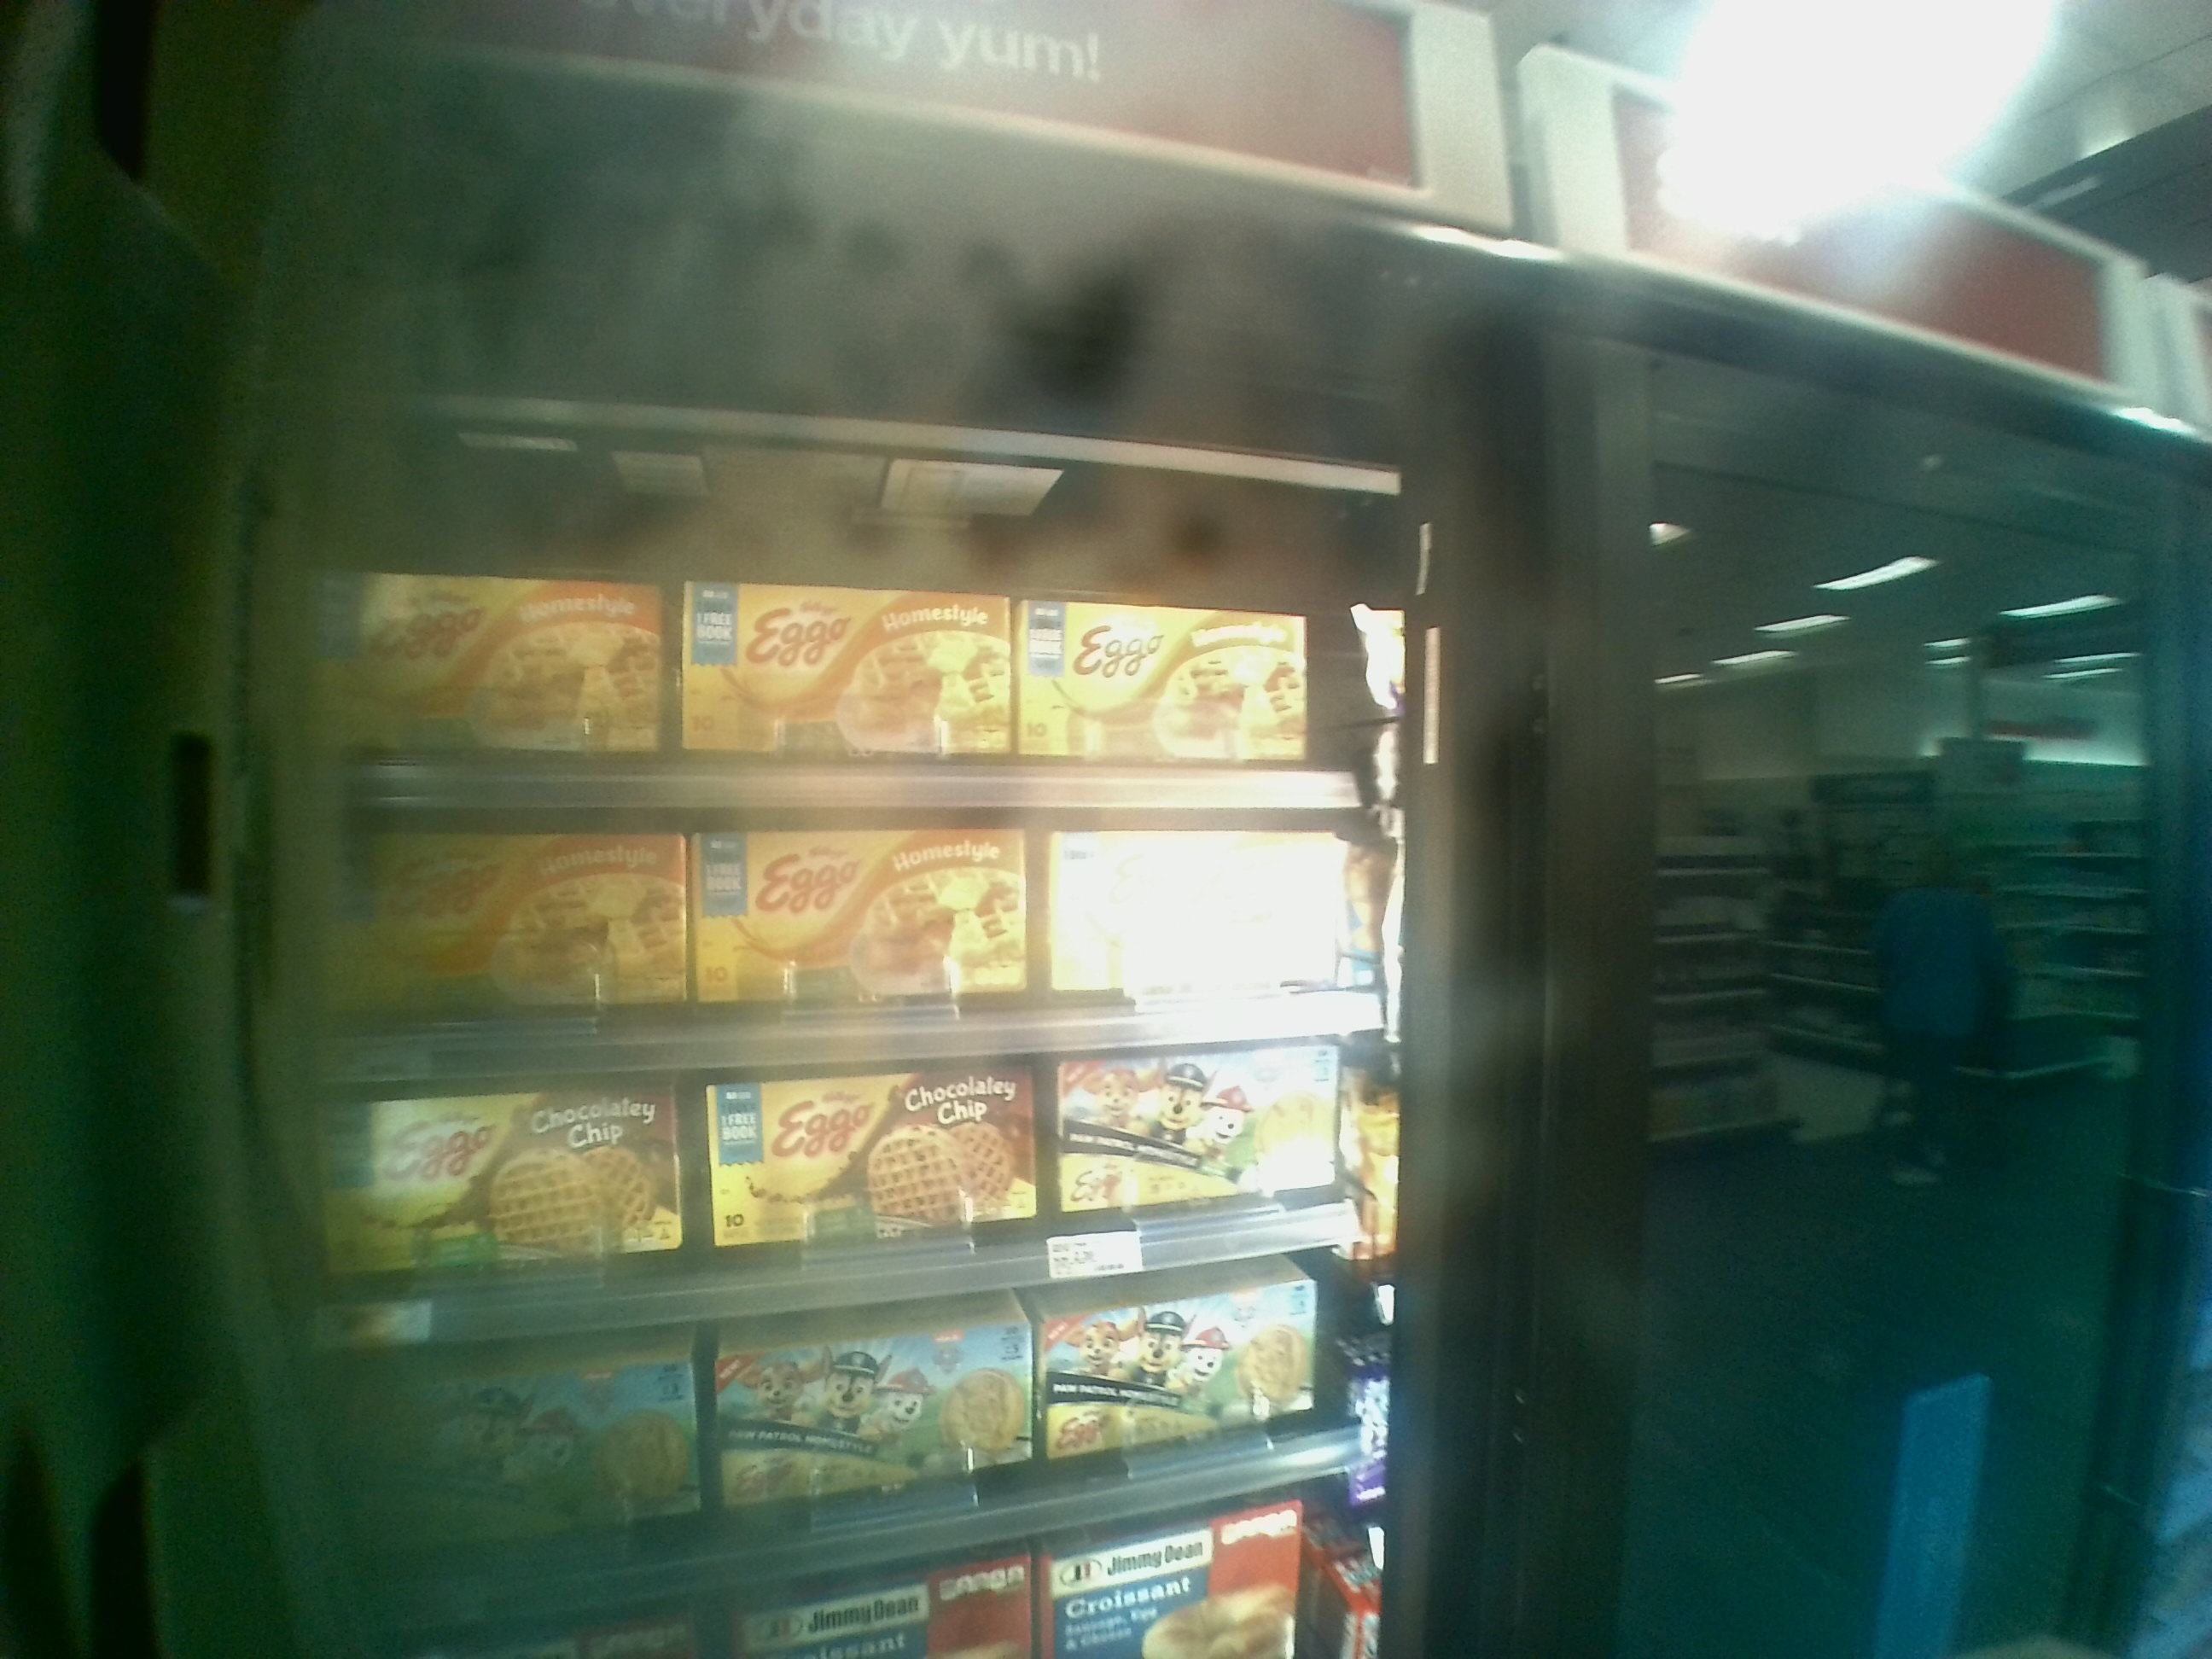shelf: (308, 1025, 1385, 1351), (308, 505, 1423, 814), (308, 814, 1423, 1079)
